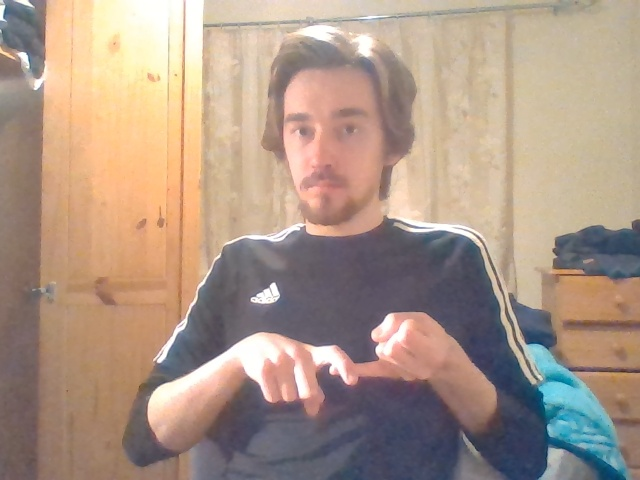step: (253, 311, 434, 415)
